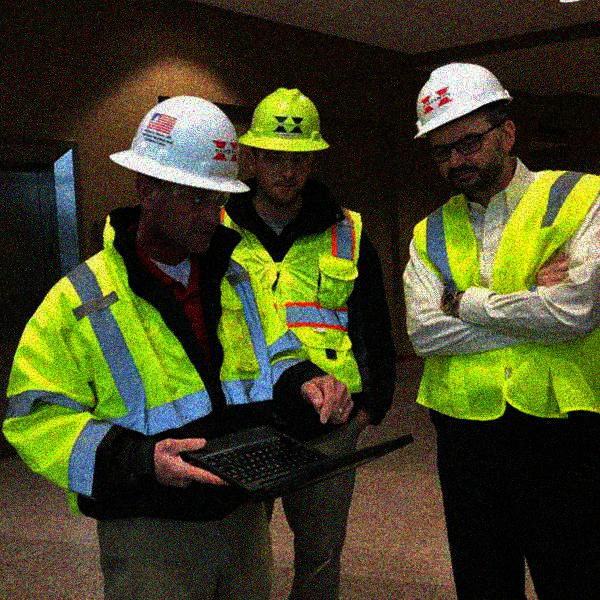helmet: (107, 97, 249, 251), (415, 60, 513, 192), (237, 85, 334, 208)
